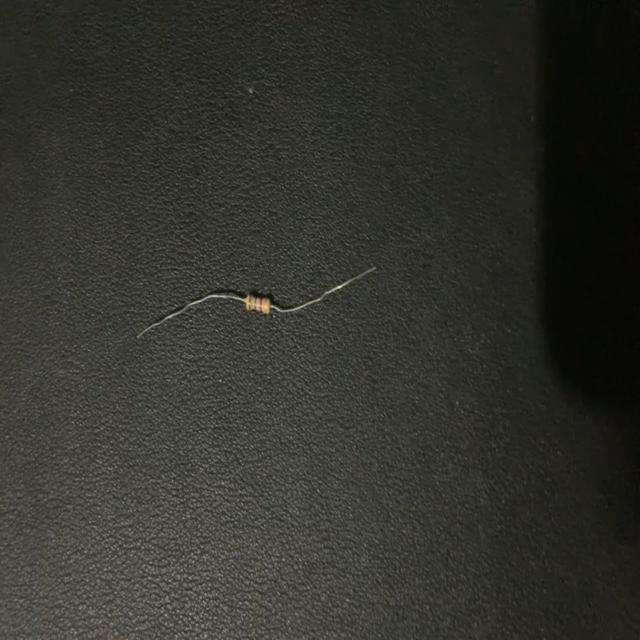resistor: (140, 264, 378, 343)
